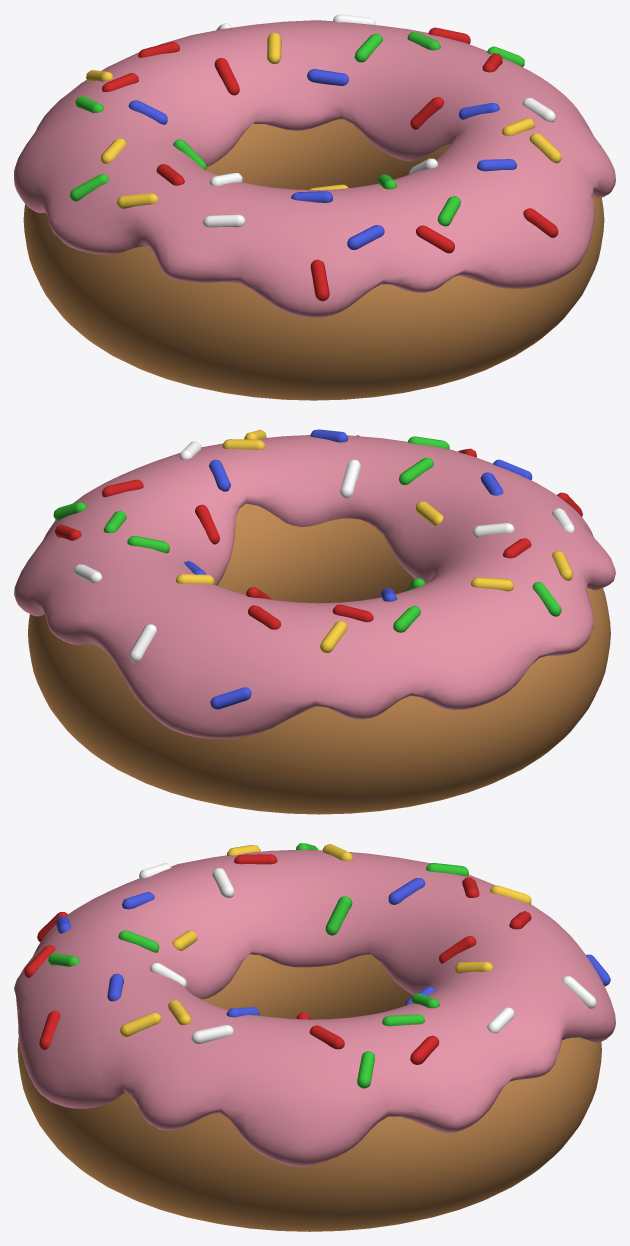
File: taber_donut_export.fbx
3 renders of one model, top to bottom at view 1: azimuth 30°, elevation 25°; view 2: azimuth 150°, elevation 25°; view 3: azimuth 270°, elevation 25°, orthographic.
Visible parts, largest first — view 1: pTorus2, pTorus1, Sprinkle25; view 2: pTorus2, pTorus1, Sprinkle25; view 3: pTorus2, pTorus1, Sprinkle25.
Boxes of the visible parts, <box> form: pTorus2: <box>14,20,615,317</box>; pTorus1: <box>23,119,604,400</box>; Sprinkle25: <box>70,14,561,301</box>; pTorus2: <box>14,435,615,738</box>; pTorus1: <box>28,503,610,814</box>; Sprinkle25: <box>53,429,582,709</box>; pTorus2: <box>14,850,615,1166</box>; pTorus1: <box>17,954,601,1231</box>; Sprinkle25: <box>24,843,610,1088</box>.
Size of the model in its own units: 2.95 by 1.09 by 2.92.
1 material, 1 textured.
